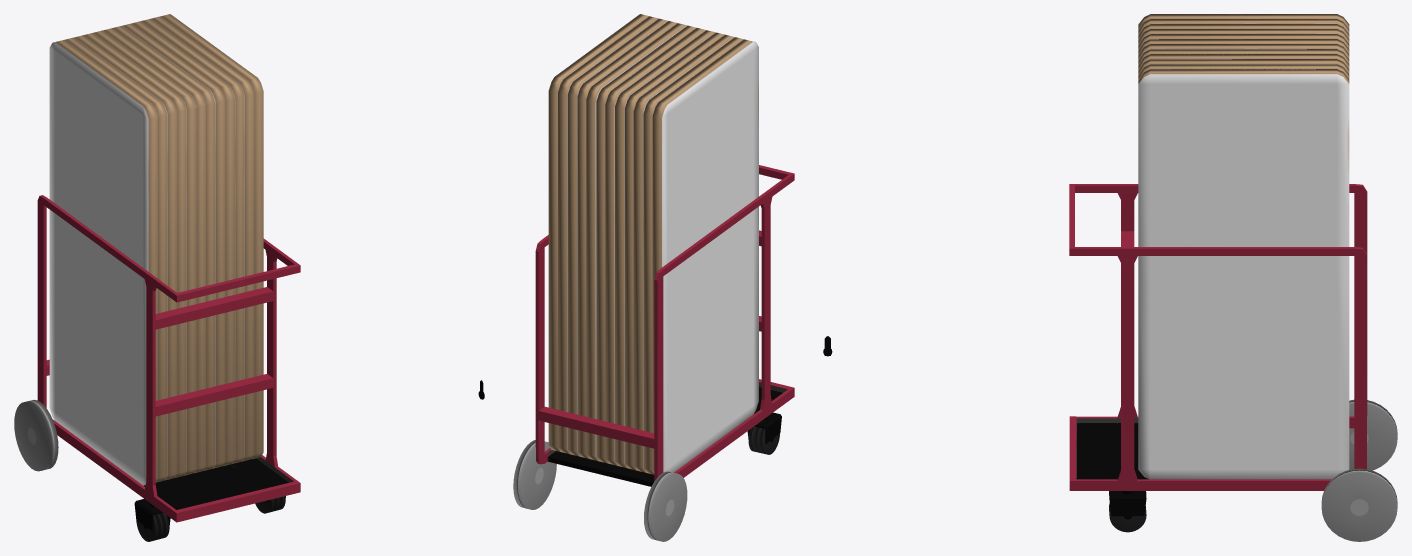
File: Trolley2.gltf
3 views of the same model, side by side, from view 1: azimuth 30°, elevation 25°; view 2: azimuth 150°, elevation 25°; view 3: azimuth 270°, elevation 25° (orthographic). The views are drawn at different scales.
Visible parts, largest first — view 1: Board1.005, Stroller, Board1.001, Board2.001, Board3, Board1.002, Board2, Board3.001, Board1.003, Board1, Board4.001, Board4 (+2 smaller); view 2: Board1.005, Stroller, Board1.001, Board2, Board1.002, Board3, Board2.001, Board3.001, Board1, Board1.003, Board1.004, Board4.001 (+4 smaller); view 3: Board4, Stroller, Wheel.008, Wheel.001, Board2, Board4.001, Board3, Board1, Board2.001, Board1.001, Board1.003, Board1.004 (+4 smaller).
Part boxes in pixels (box(x1,y1,x2,y2)): Board1.005: box(49, 40, 157, 485); Stroller: box(37, 195, 300, 522); Board1.001: box(122, 23, 225, 468); Board2.001: box(93, 30, 196, 475); Board3: box(151, 16, 254, 461); Board1.002: box(74, 35, 177, 480); Board2: box(142, 18, 244, 463); Board3.001: box(103, 28, 205, 473); Board1.003: box(84, 33, 186, 477); Board1: box(132, 21, 234, 466); Board4.001: box(113, 26, 215, 470); Board4: box(161, 14, 263, 458); Board1.005: box(652, 39, 758, 472); Stroller: box(535, 165, 794, 486); Board1.001: box(586, 23, 687, 461); Board2: box(567, 18, 668, 456); Board1.002: box(633, 34, 734, 472); Board3: box(558, 16, 658, 454); Board2.001: box(615, 30, 715, 467); Board3.001: box(605, 28, 706, 465); Board1: box(577, 21, 677, 458); Board1.003: box(624, 32, 724, 470); Board1.004: box(643, 37, 743, 474); Board4.001: box(596, 25, 696, 463); Board4: box(1138, 69, 1349, 479); Stroller: box(1069, 184, 1367, 490); Wheel.008: box(1321, 468, 1397, 541); Wheel.001: box(1349, 399, 1397, 470); Board2: box(1138, 59, 1349, 73); Board4.001: box(1138, 44, 1349, 58); Board3: box(1138, 64, 1349, 78); Board1: box(1138, 54, 1349, 68); Board2.001: box(1138, 34, 1349, 48); Board1.001: box(1138, 49, 1349, 63); Board1.003: box(1138, 29, 1349, 43); Board1.004: box(1138, 19, 1349, 33).
Bounding box in the file's own units: 2.94 × 5.99 × 6.77.
20 materials, 20 textured.
